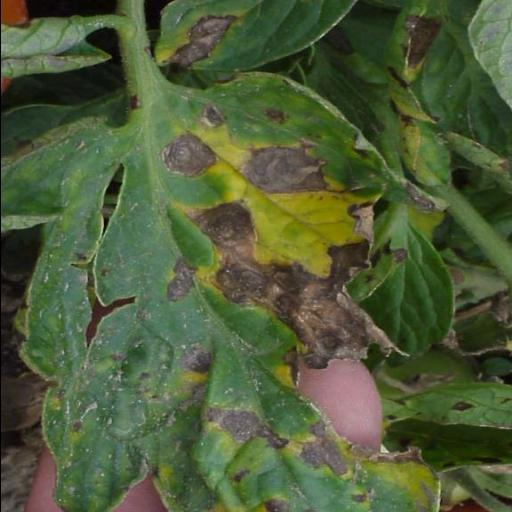Early Blight: (12, 72, 398, 512)
